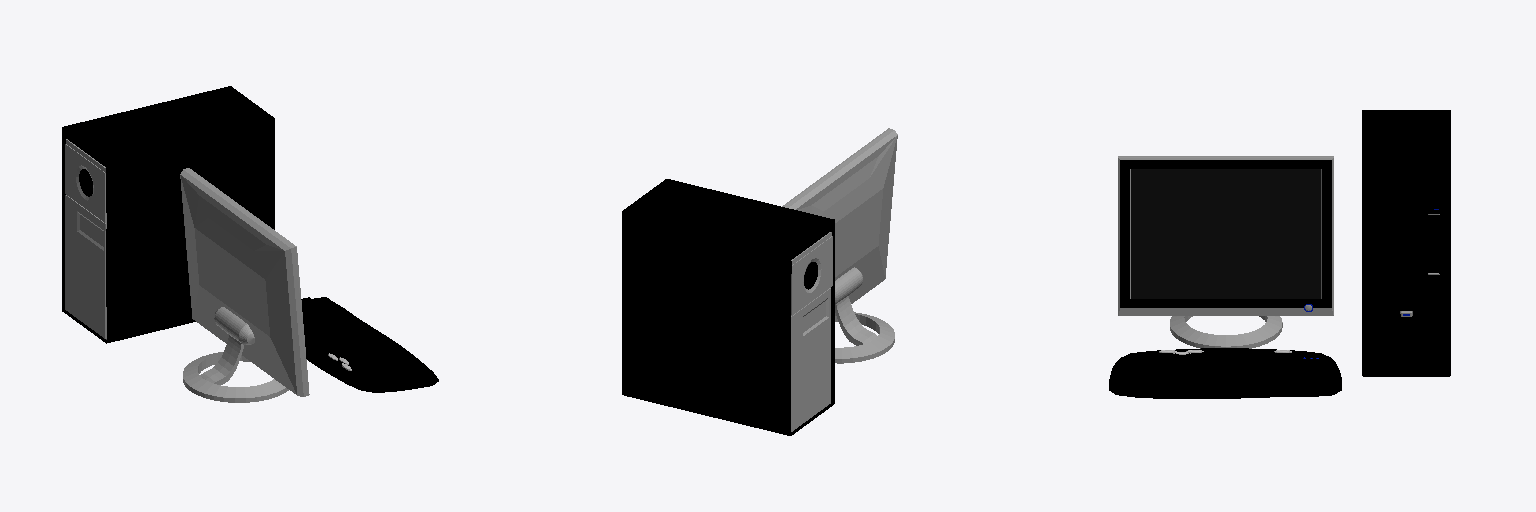
File: computer.obj
The picture shows the model from 3 angles: view 1: azimuth 30°, elevation 25°; view 2: azimuth 150°, elevation 25°; view 3: azimuth 270°, elevation 25°; orthographic projection.
Parts seen in each view (by area): view 1: obudowa_Cube.020, monitor_Cube.023, klawiatura_Plane.007; view 2: obudowa_Cube.020, monitor_Cube.023; view 3: monitor_Cube.023, obudowa_Cube.020, klawiatura_Plane.007.
Part boxes in pixels (x1,y1,x2,y2): obudowa_Cube.020: (62, 86, 274, 343); monitor_Cube.023: (180, 168, 309, 402); klawiatura_Plane.007: (301, 297, 438, 392); obudowa_Cube.020: (622, 179, 834, 435); monitor_Cube.023: (782, 128, 897, 363); monitor_Cube.023: (1118, 156, 1333, 348); obudowa_Cube.020: (1362, 110, 1450, 376); klawiatura_Plane.007: (1109, 348, 1341, 398).
Size of the model in its own units: 3.71 by 3.04 by 5.08.